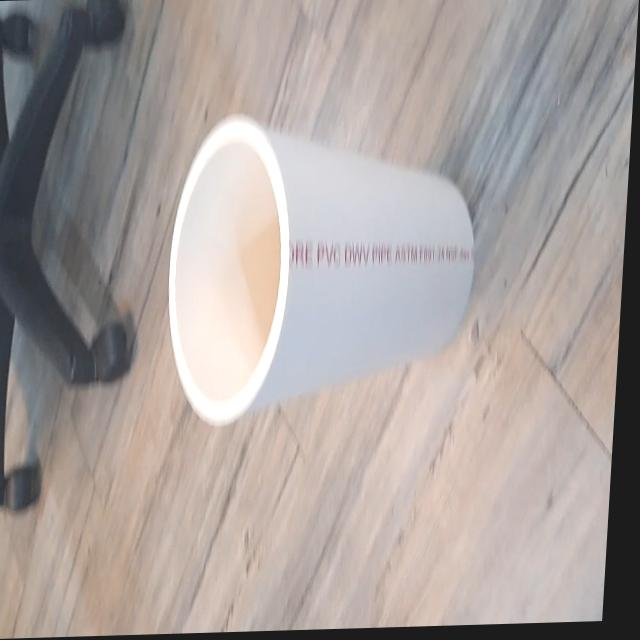CORAL: (146, 88, 493, 454)
